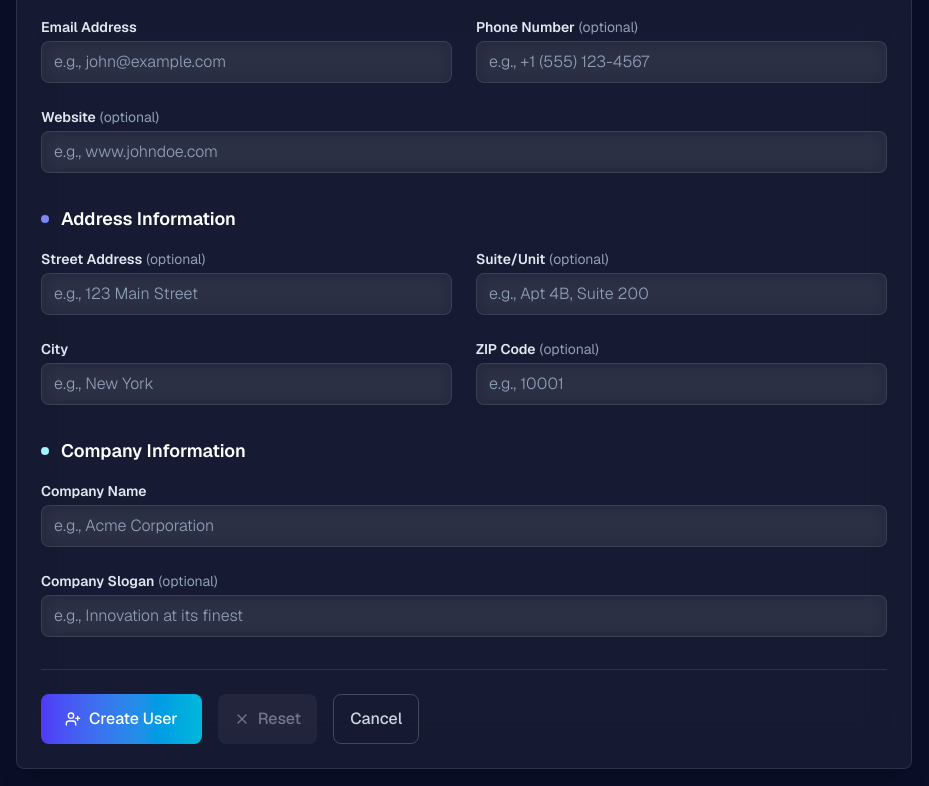
Test case: AddUserForm › shows validation errors for required fields
(page scrolled)
What coordinates should you click on to do the following:
click the button "Create User"
I would click on:
 (121, 719)
Its box is top-left (41, 694), bottom-right (202, 744).
(page scrolled)
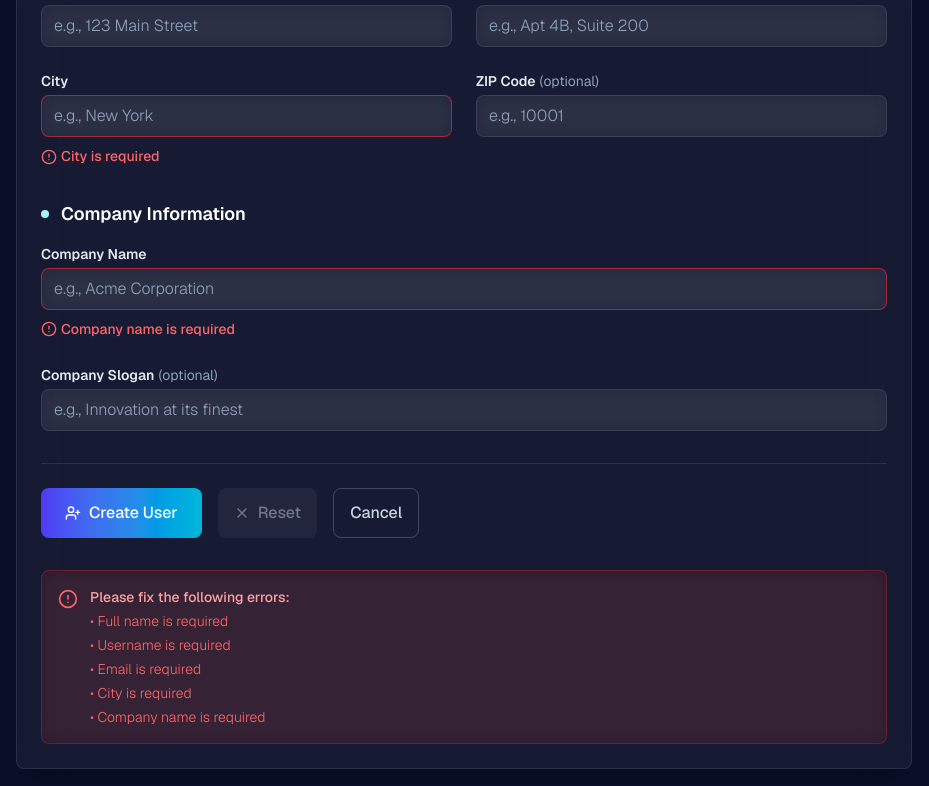
Expected: the heading "Please fix the following errors:" is shown, top-left (90, 587), bottom-right (290, 607)
